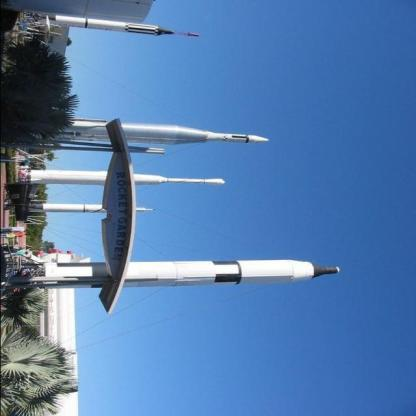MIL_TBM: (39, 256, 341, 287), (29, 117, 270, 146), (46, 14, 178, 41), (32, 171, 226, 187), (33, 205, 151, 212)
